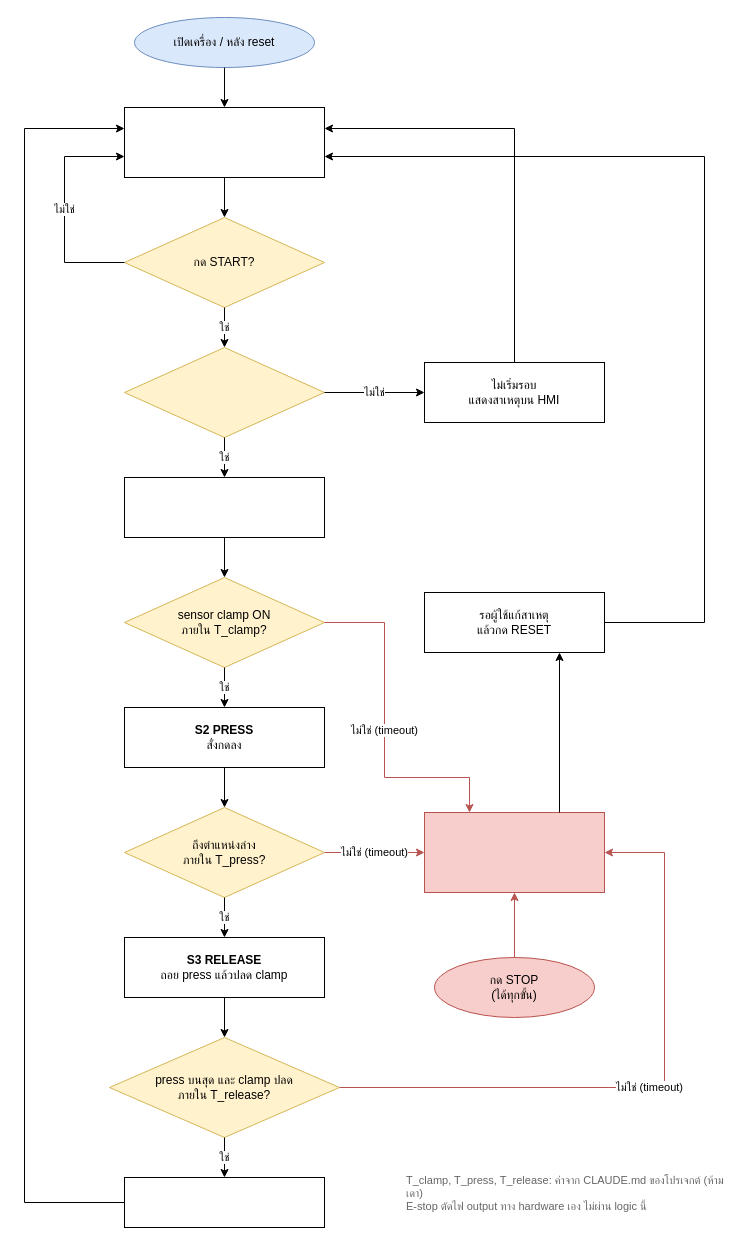
This 742x1245 diagram has some shape labels left out. Each missing label, with the box of its shape:
FAULT ปิด output ทั้งหมด alarm + บอกขั้นที่ค้าง: (424, 812, 604, 892)
IDLE ไม่สั่ง output ใดๆ (ไม่เดินเองหลัง reset): (124, 106, 324, 178)
S1 CLAMP สั่งเปิดวาล์ว clamp: (124, 476, 324, 538)
นับชิ้นงาน +1: (124, 1176, 324, 1228)
ประตูปิด และ ไม่มี alarm ค้าง?: (124, 346, 324, 438)
